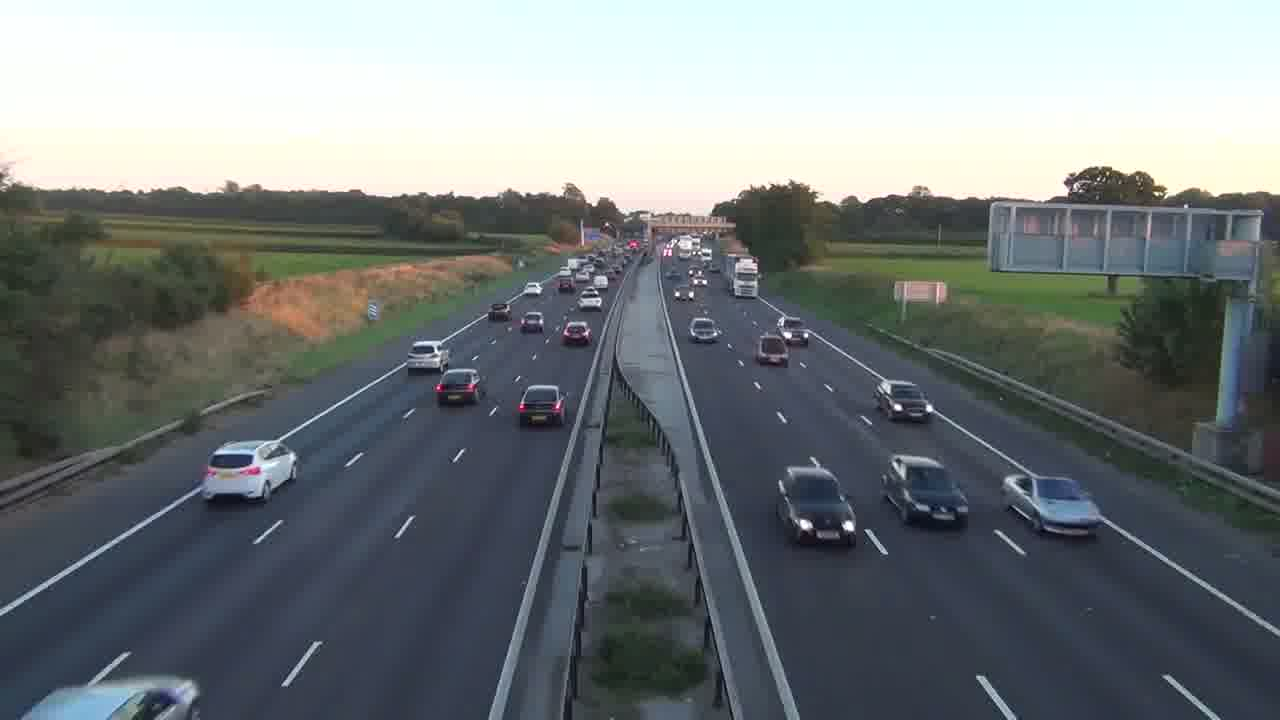car: (20, 675, 203, 719), (775, 457, 857, 547), (1001, 472, 1105, 537), (199, 438, 299, 504), (875, 379, 932, 423), (516, 384, 567, 427), (434, 367, 482, 406), (755, 333, 790, 368), (687, 316, 723, 344), (560, 320, 592, 347), (519, 311, 544, 334)
